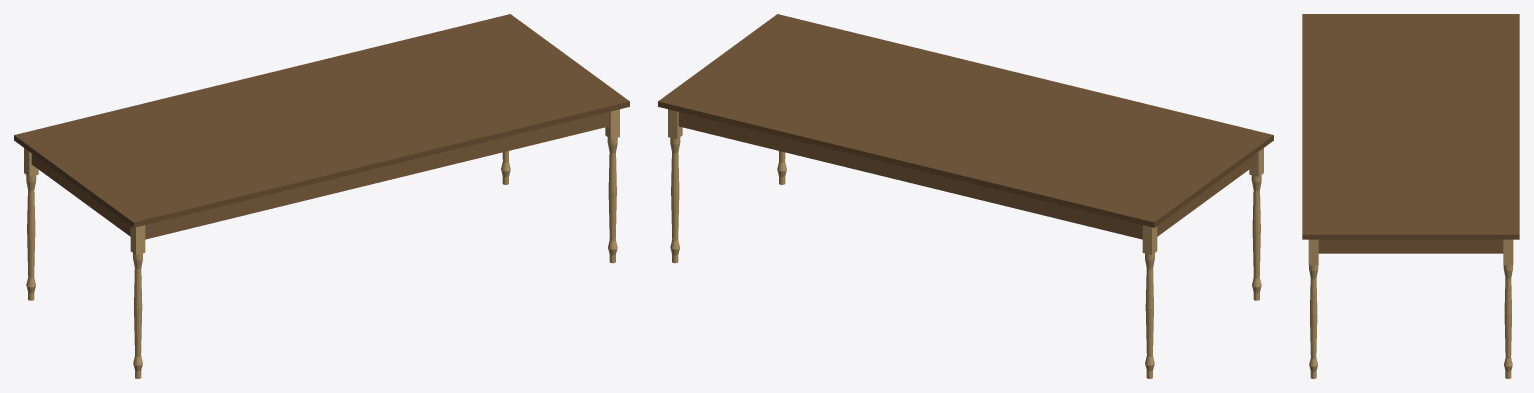
File: FET-DTB-8-seat.glb
3 views of the same model, side by side, from view 1: azimuth 30°, elevation 25°; view 2: azimuth 150°, elevation 25°; view 3: azimuth 270°, elevation 25° (orthographic). The views are drawn at different scales.
Visible parts, largest first — view 1: top:pbr, apron-f:pbr, leg-fl:pbr, leg-fr:pbr, leg-bl:pbr, apron-l:pbr; view 2: top:pbr, apron-b:pbr, leg-bl:pbr, leg-br:pbr, leg-fl:pbr, apron-l:pbr; view 3: top:pbr, apron-r:pbr, leg-fr:pbr, leg-br:pbr.
Part boxes in pixels (x1,y1,x2,y2): top:pbr: [14, 14, 629, 227]; apron-f:pbr: [145, 112, 609, 239]; leg-fl:pbr: [130, 225, 145, 378]; leg-fr:pbr: [605, 109, 619, 263]; leg-bl:pbr: [24, 148, 38, 300]; apron-l:pbr: [31, 154, 130, 236]; top:pbr: [658, 14, 1273, 227]; apron-b:pbr: [678, 112, 1142, 239]; leg-bl:pbr: [1142, 225, 1157, 378]; leg-br:pbr: [668, 109, 682, 263]; leg-fl:pbr: [1249, 148, 1263, 300]; apron-l:pbr: [1157, 154, 1256, 236]; top:pbr: [1302, 14, 1519, 239]; apron-r:pbr: [1318, 239, 1503, 253]; leg-fr:pbr: [1308, 239, 1318, 378]; leg-br:pbr: [1503, 239, 1513, 378].
Size of the model in its own units: 2.4 by 0.75 by 1.
